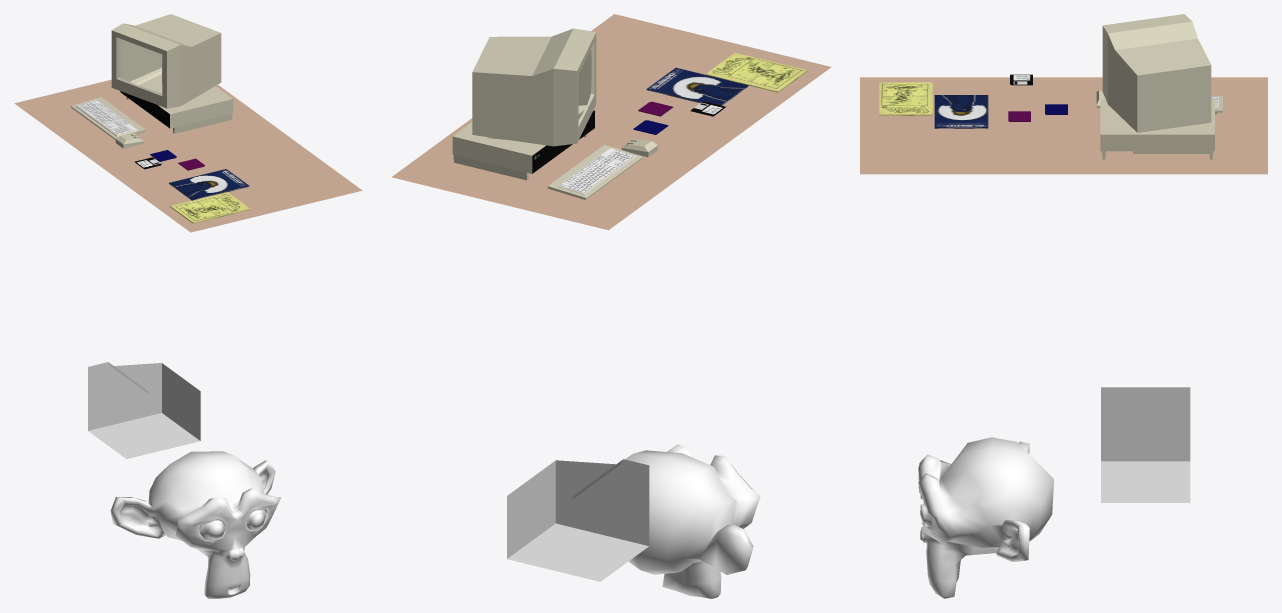
The picture shows the model from 3 angles, left to right: view 1: azimuth 30°, elevation 25°; view 2: azimuth 150°, elevation 25°; view 3: azimuth 270°, elevation 25°; orthographic projection. The views are drawn at different scales.
Visible parts, largest first — view 1: Table, Suzanne, Cube.003, 1081 RGB Monitor, Amiga 1000 PC, Amiga 1000 Keyboard, Zine 2, Zine 1; view 2: Table, Cube.003, Suzanne, 1081 RGB Monitor, Amiga 1000 PC, Amiga 1000 Keyboard, Zine 2, Zine 1; view 3: Table, Suzanne, 1081 RGB Monitor, Cube.003, Amiga 1000 PC, Zine 1, Zine 2.
Boxes of the visible parts, x1,y1,x2,y2 form: Table: (14,79,362,232); Suzanne: (110,451,281,598); Cube.003: (88,362,200,459); 1081 RGB Monitor: (111,14,221,108); Amiga 1000 PC: (120,74,233,133); Amiga 1000 Keyboard: (71,97,146,139); Zine 2: (170,192,250,223); Zine 1: (169,169,249,200); Table: (391,14,831,230); Cube.003: (507,459,649,581); Suzanne: (625,444,760,598); 1081 RGB Monitor: (472,28,596,146); Amiga 1000 PC: (452,109,594,180); Amiga 1000 Keyboard: (547,145,642,199); Zine 2: (705,52,807,92); Zine 1: (646,67,748,105); Table: (860,77,1267,174); Suzanne: (918,437,1053,598); 1081 RGB Monitor: (1102,14,1211,132); Cube.003: (1101,387,1190,502); Amiga 1000 PC: (1100,99,1214,159); Zine 1: (934,95,988,128); Zine 2: (879,82,932,115).
Bounding box in the file's own units: 0.9432 × 2.47 × 1.6.
12 materials, 5 textured.
